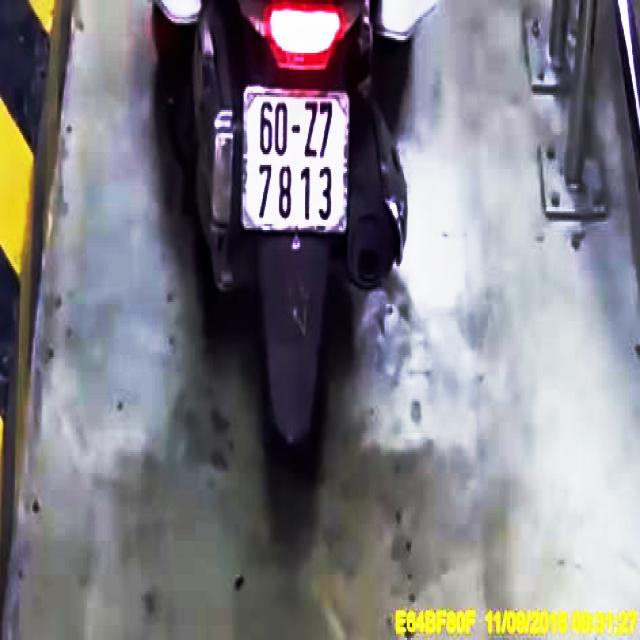license_plate: (242, 86, 350, 232)
